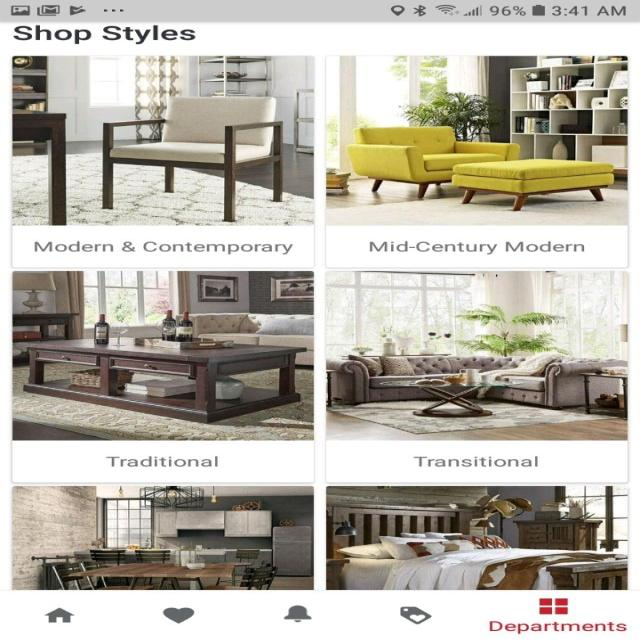Icon: (399, 605, 432, 624), (162, 606, 195, 624), (538, 597, 568, 614), (282, 605, 312, 622), (44, 607, 74, 622)
Image: (10, 55, 314, 225), (12, 270, 314, 441), (324, 270, 626, 440), (326, 56, 626, 226), (326, 486, 628, 590), (12, 486, 314, 590)
Text: (12, 24, 196, 44), (34, 240, 294, 254), (369, 240, 584, 254), (489, 620, 627, 634), (412, 456, 538, 466), (105, 456, 218, 466)
